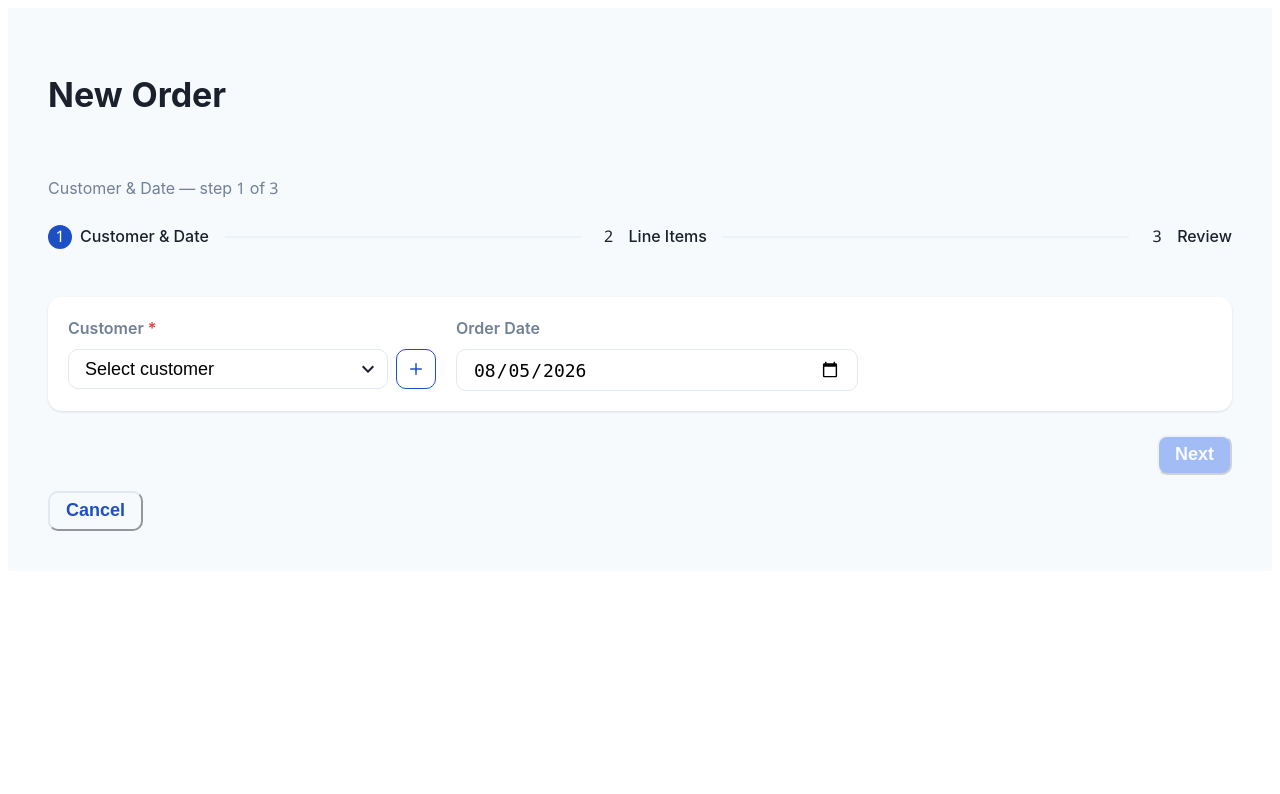
Scenario: OrderForm — new draft order › adds a FIFO-priced line item and only then allows advancing
The image size is (1280, 794).
Select "Jane Doe" in the dropdown labelled "Customer*" at (228, 369), box [68,349,388,389]
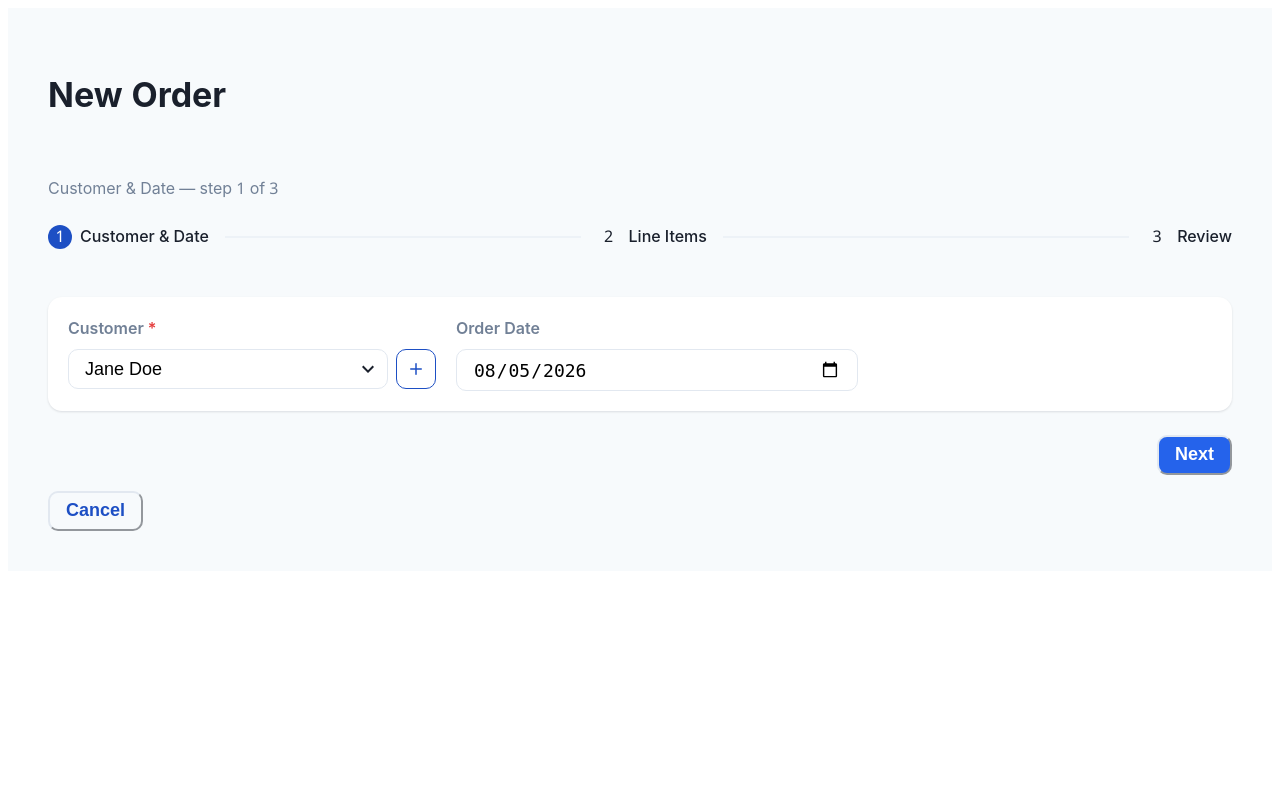
Click the button "Next".
click(1194, 455)  # box [1157,435,1232,475]
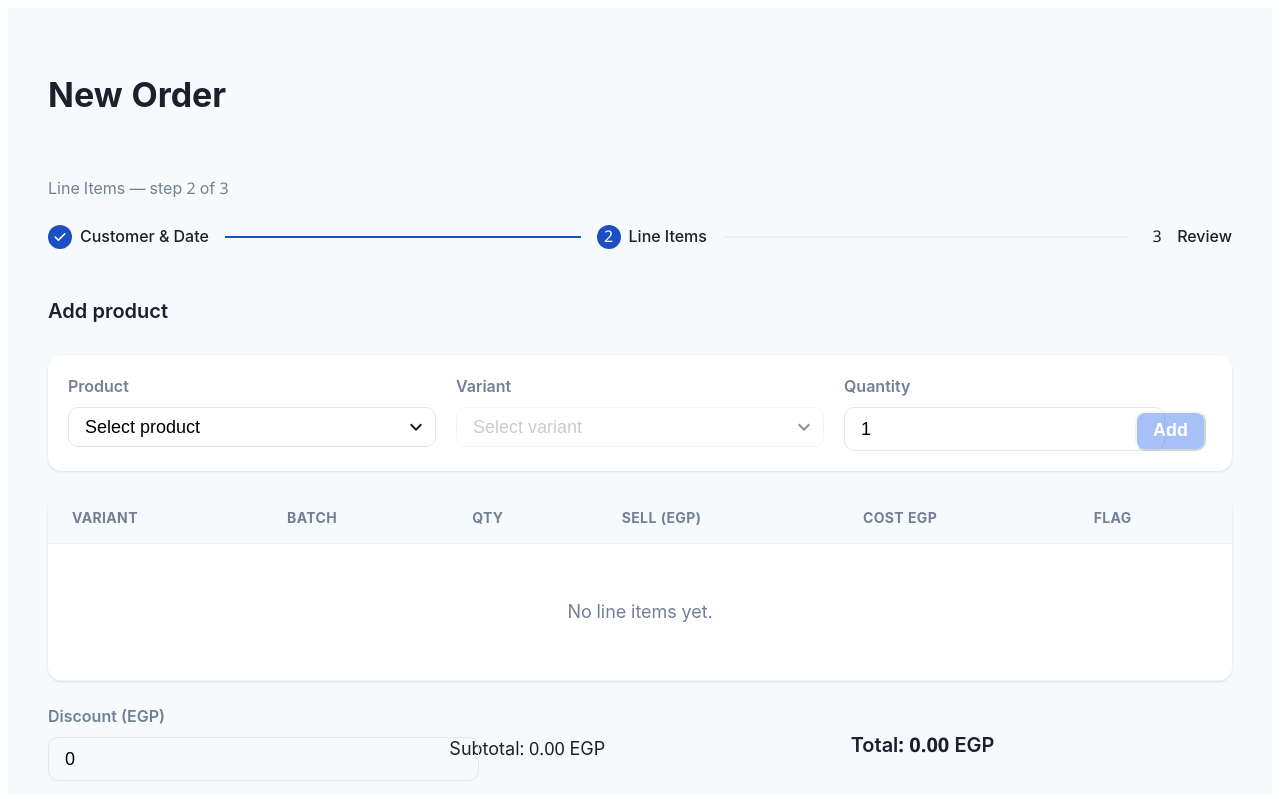
Select "Serum" in the dropdown labelled "Product" at (252, 427), box [68,407,436,447]
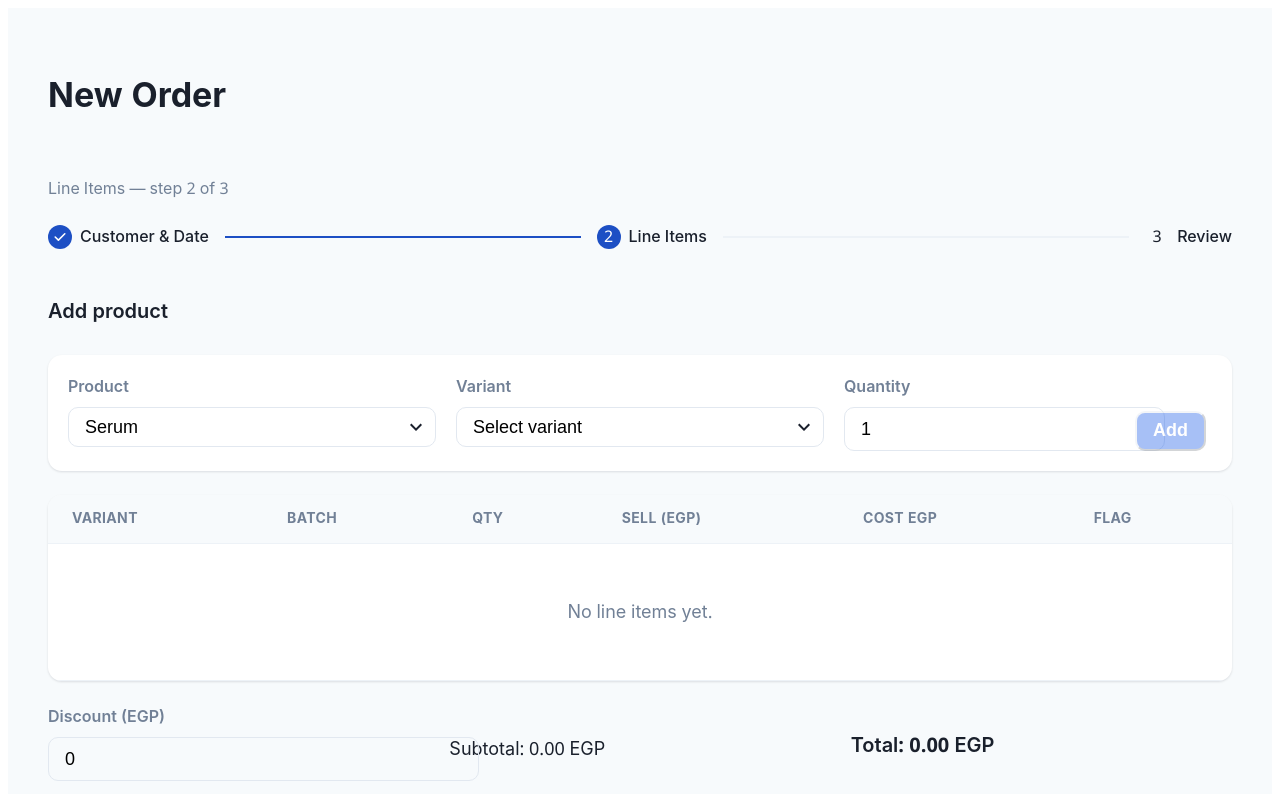
Select "50ml" in the dropdown labelled "Variant" at (640, 427), box [456,407,824,447]
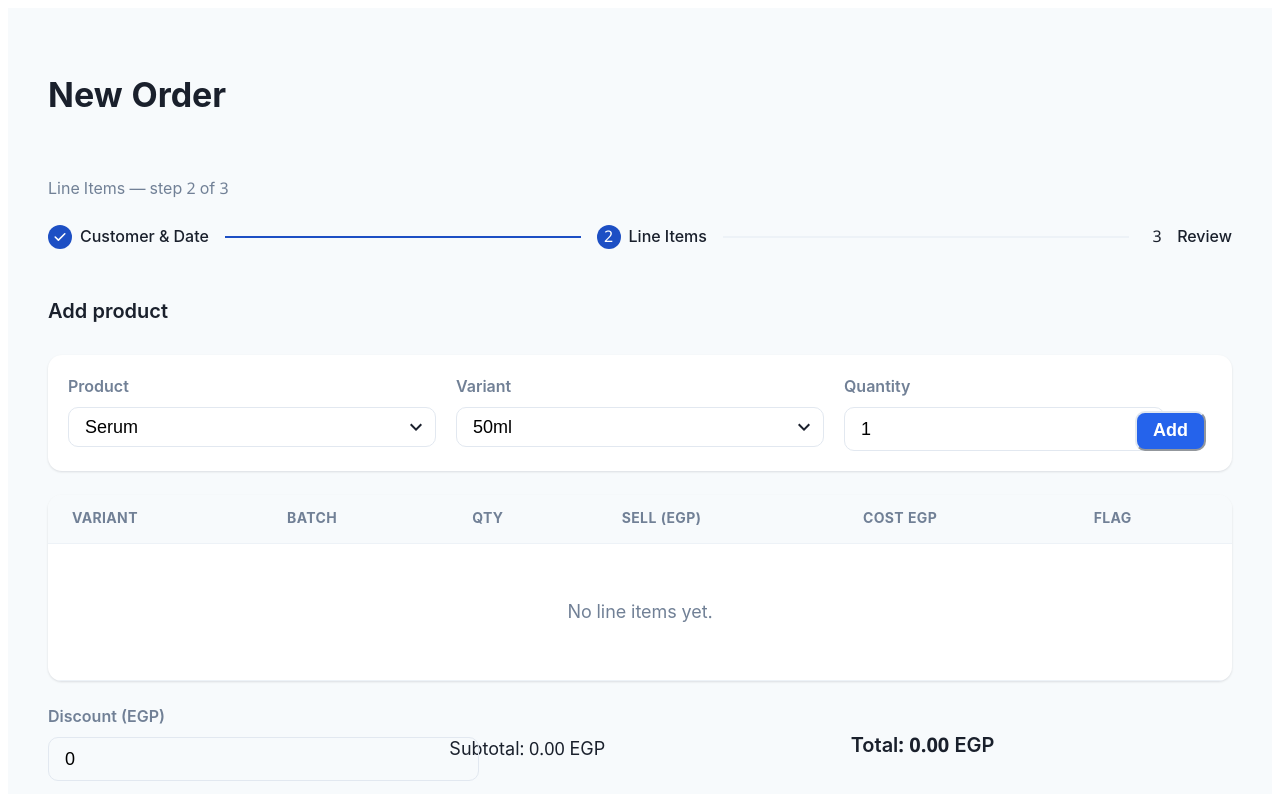
Click the button "Add".
click(1170, 431)  # box [1135,411,1206,451]
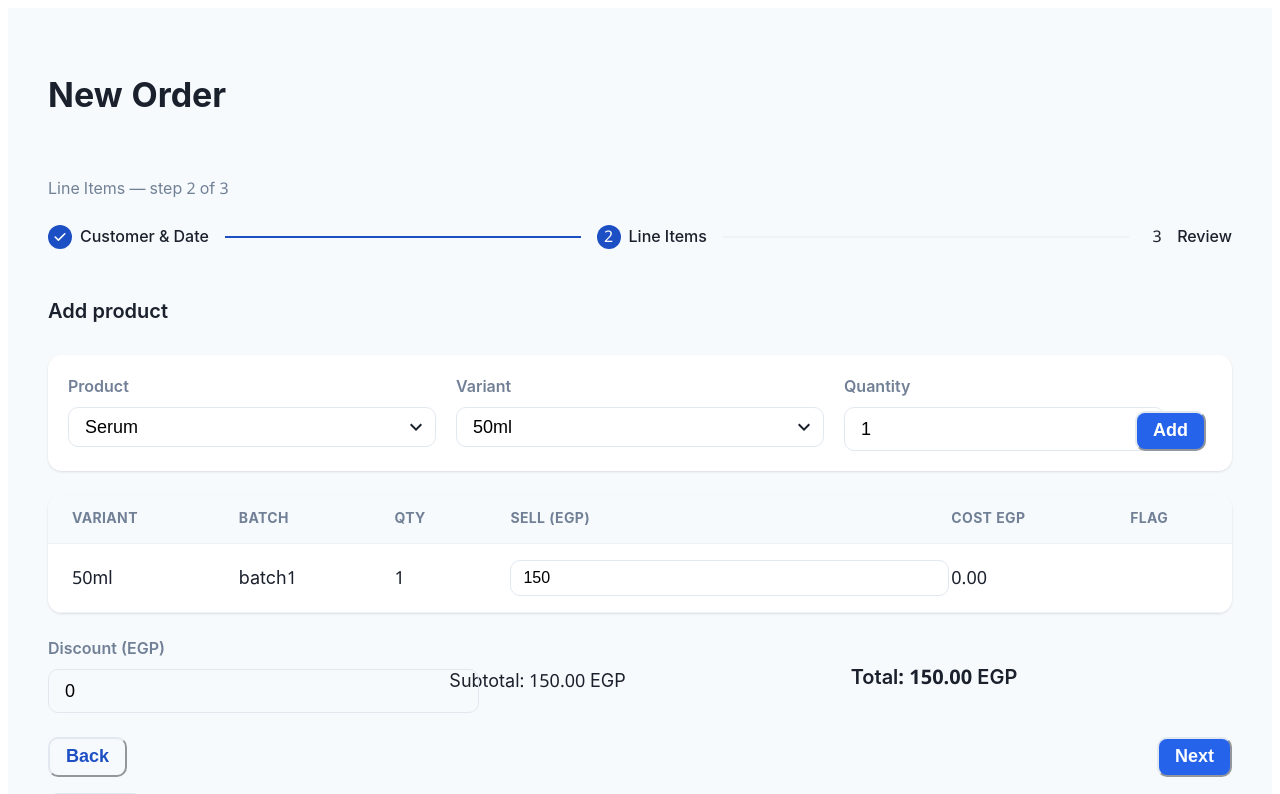
Expected: the button "Next" is enabled, [1157,737,1232,777]
